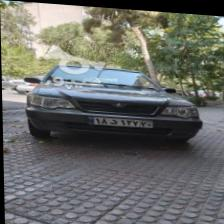plate: (83, 113, 151, 126)
